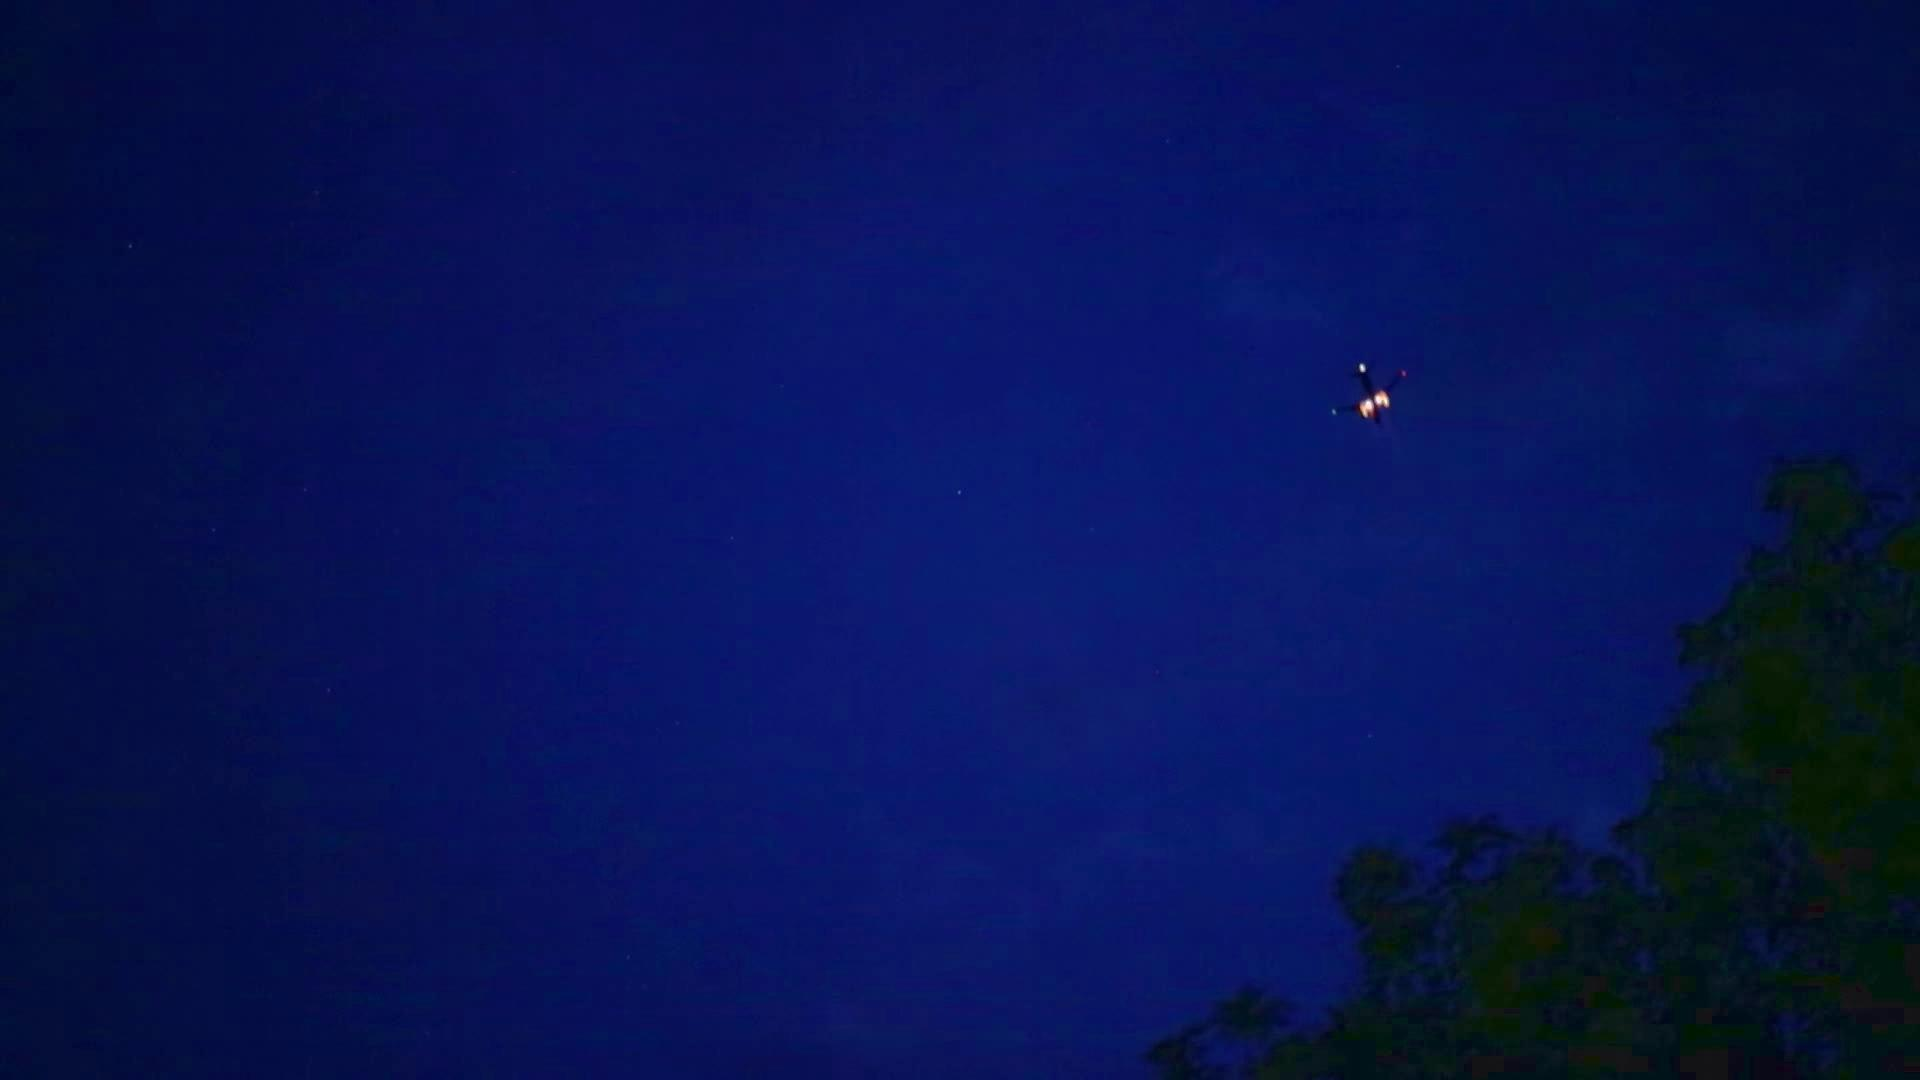Plane: (1324, 348, 1418, 436)
